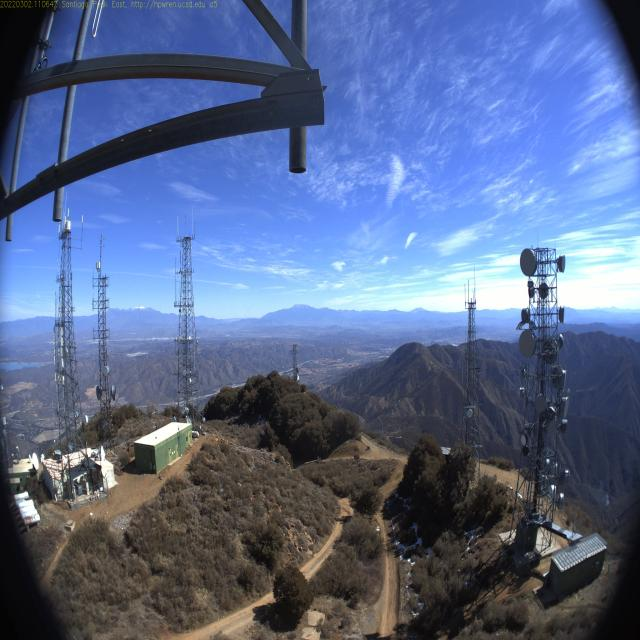smoke: (554, 380, 602, 498), (604, 489, 616, 516)
